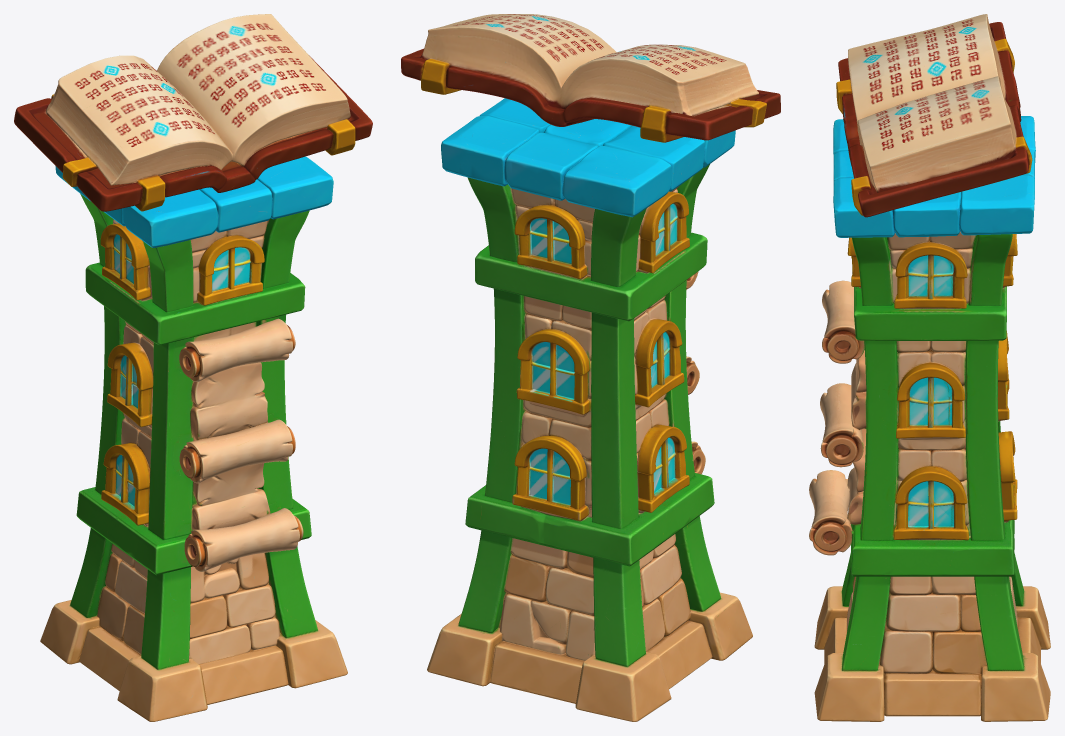
The model's file is torre-letras.glb.
The picture shows the model from 3 angles, left to right: view 1: azimuth 30°, elevation 25°; view 2: azimuth 150°, elevation 25°; view 3: azimuth 270°, elevation 25°; orthographic projection. The views are drawn at different scales.
Size of the model in its own units: 0.9688 by 1.9 by 0.6775.
Materials: 1 (1 with a texture image).
